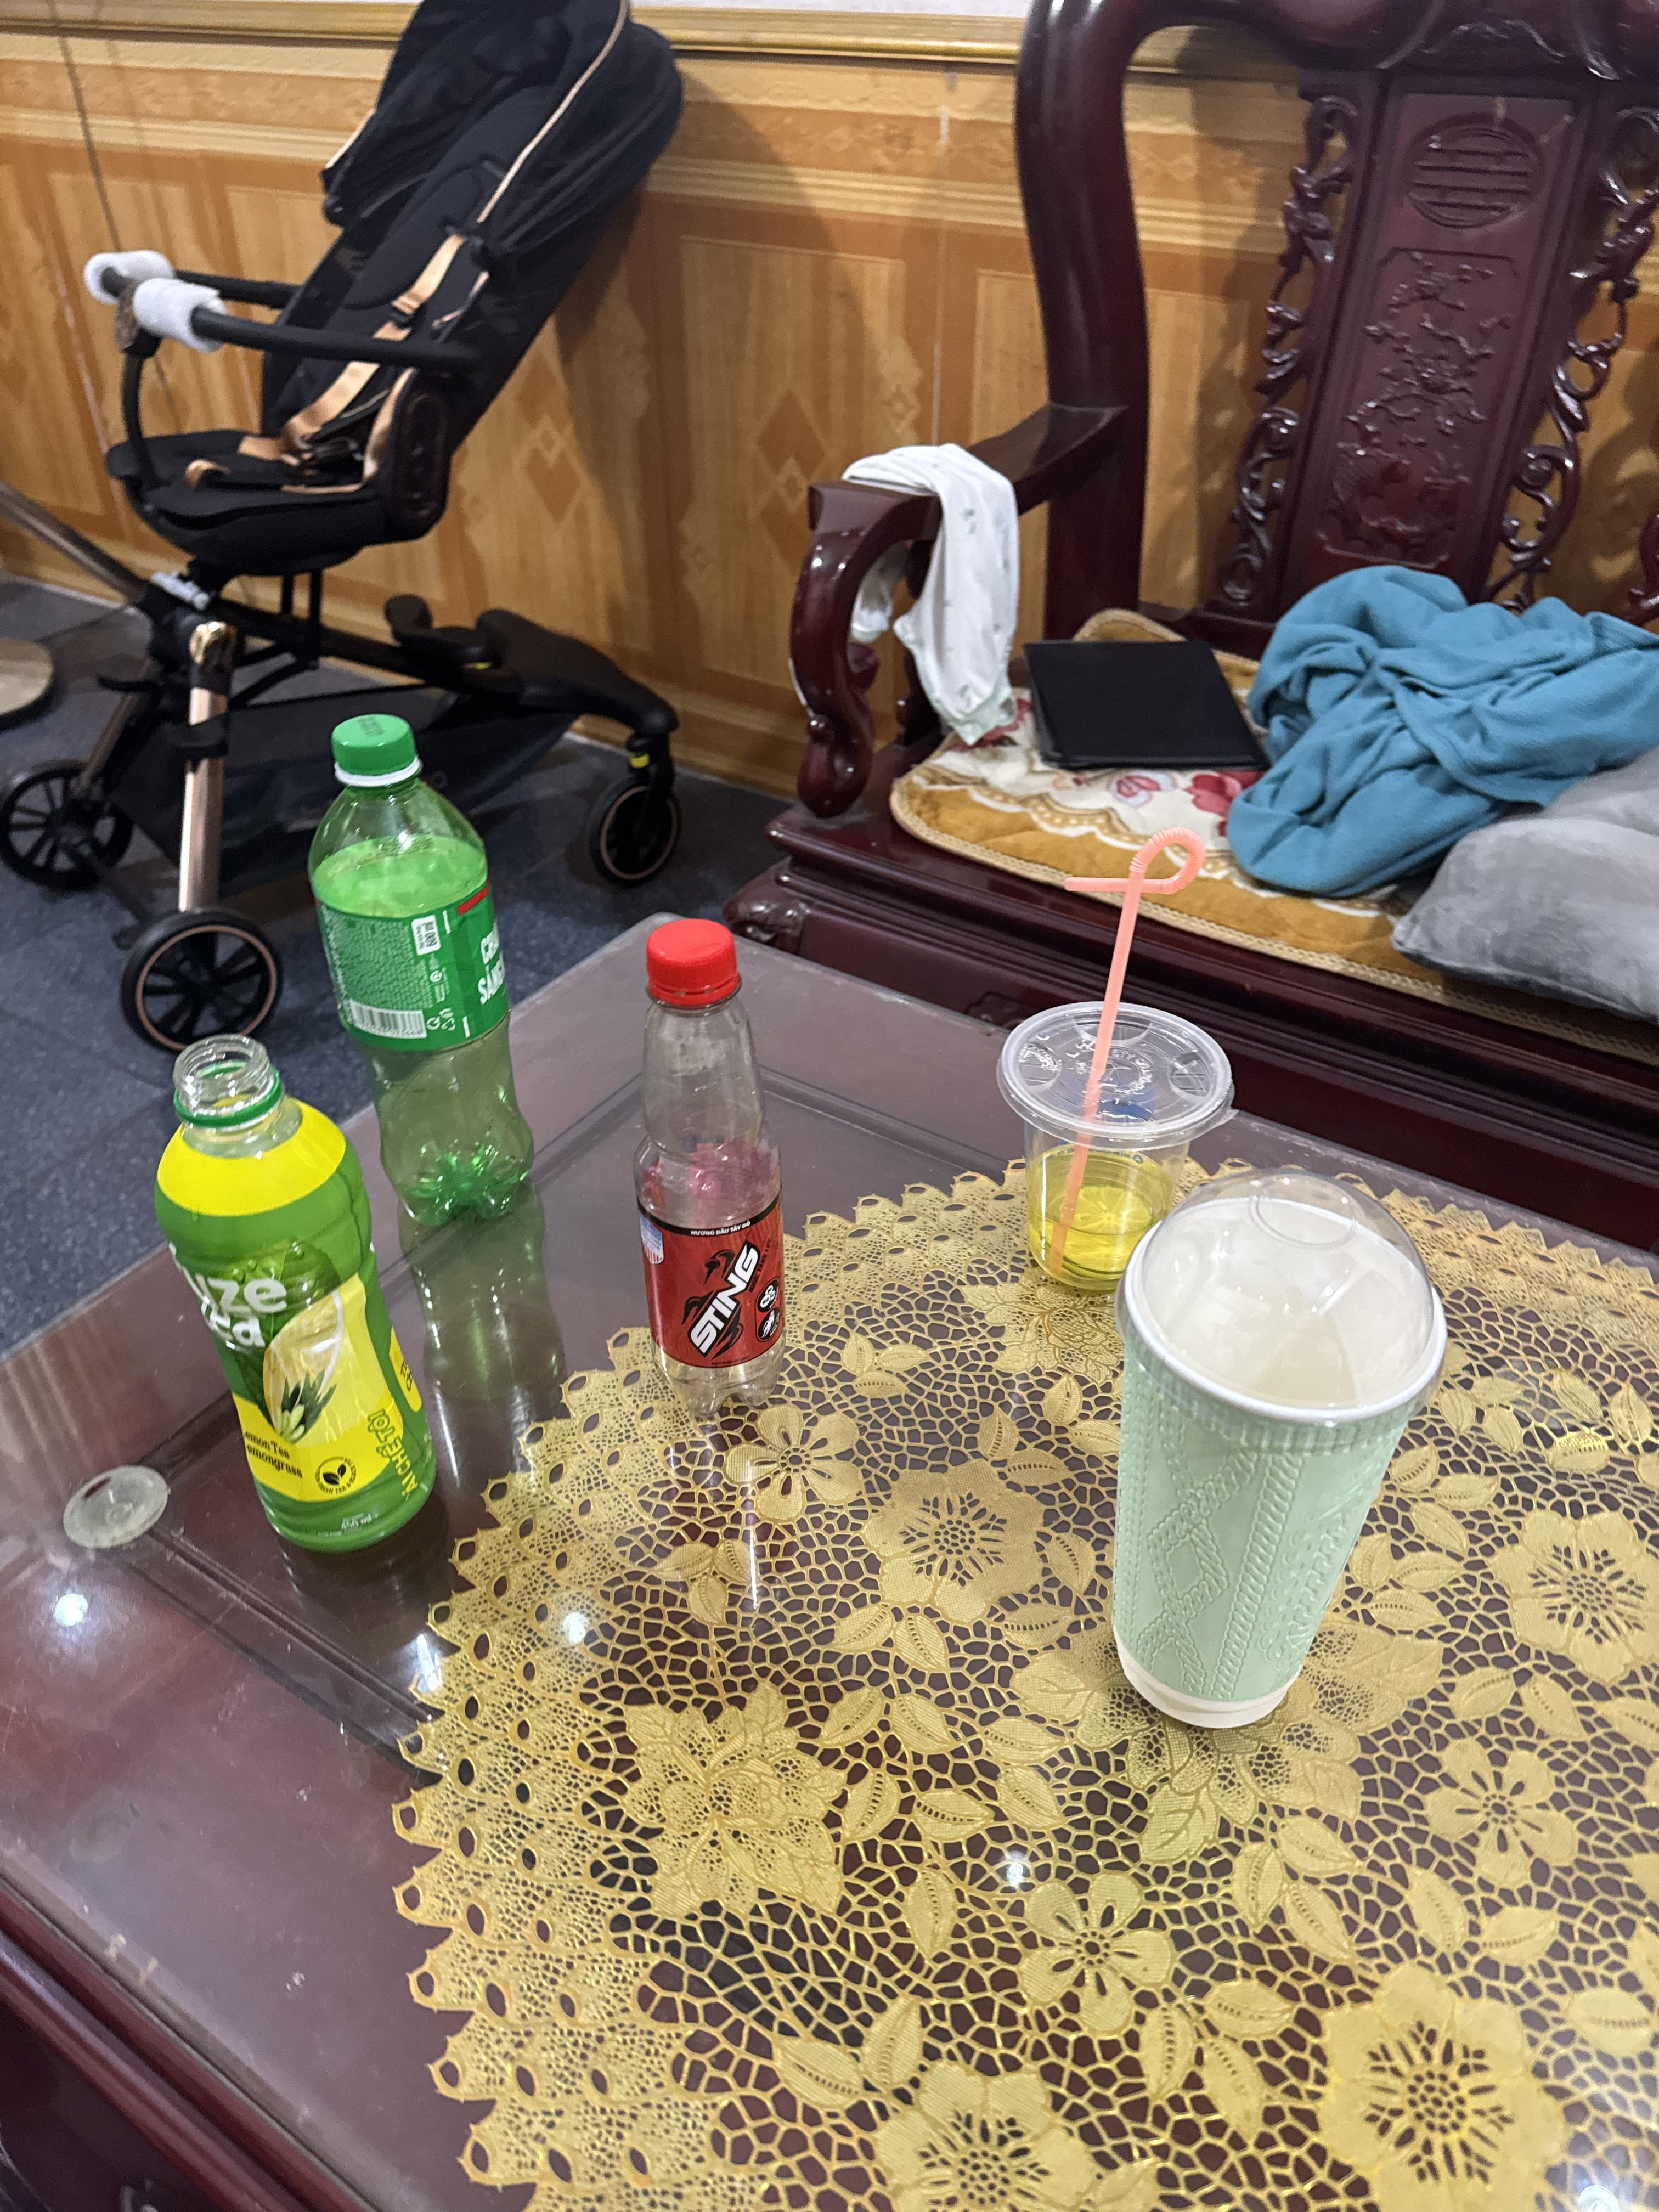2: (1084, 1157, 1480, 1775), (969, 979, 1241, 1331)
bottle: (141, 1031, 455, 1557), (281, 700, 575, 1244), (598, 902, 807, 1454)
